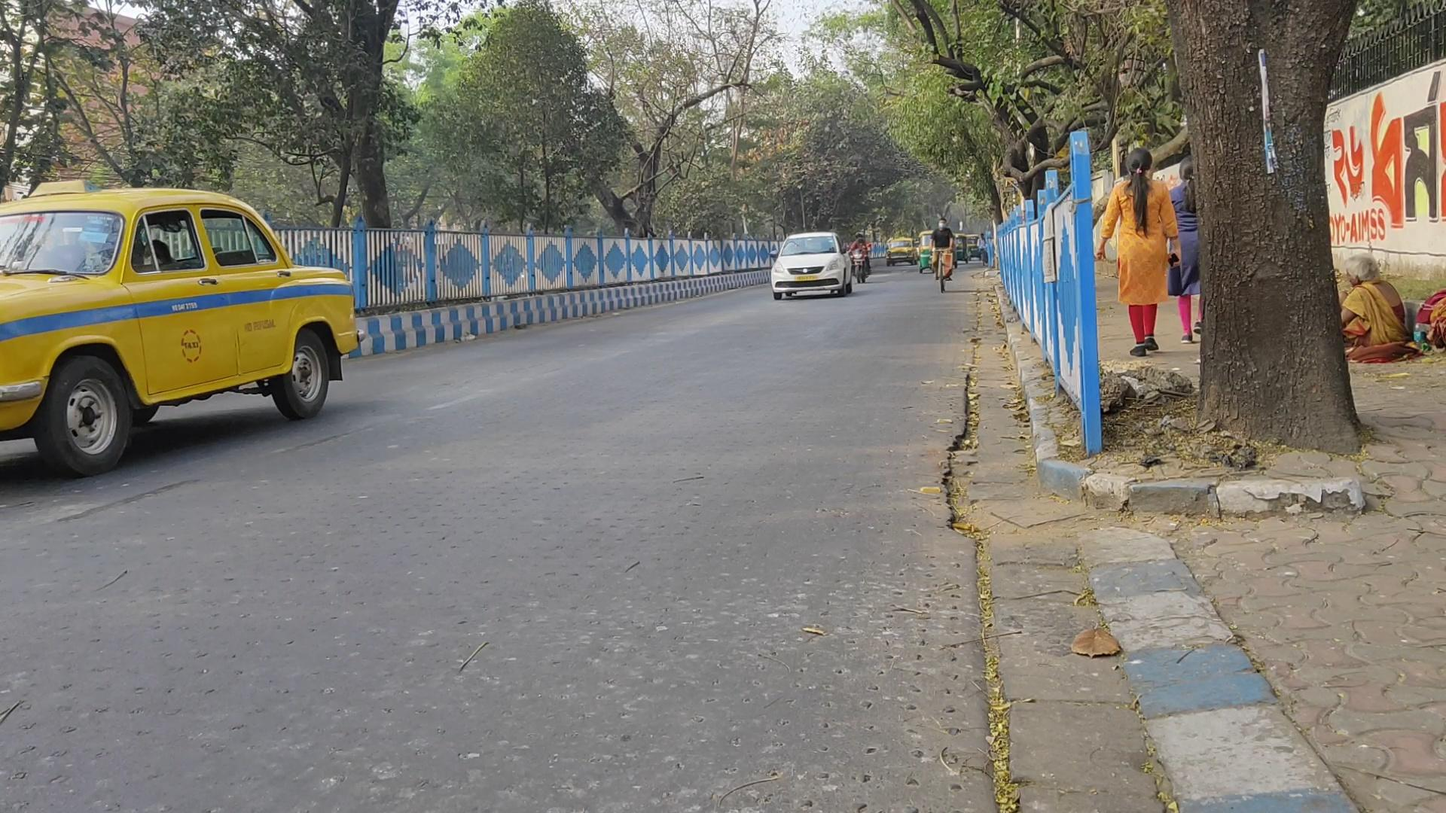Auto: (917, 230, 947, 273), (953, 233, 969, 265), (966, 233, 982, 262)
bike: (848, 231, 874, 285)
car: (2, 178, 366, 475), (770, 230, 853, 302), (885, 236, 918, 267)
